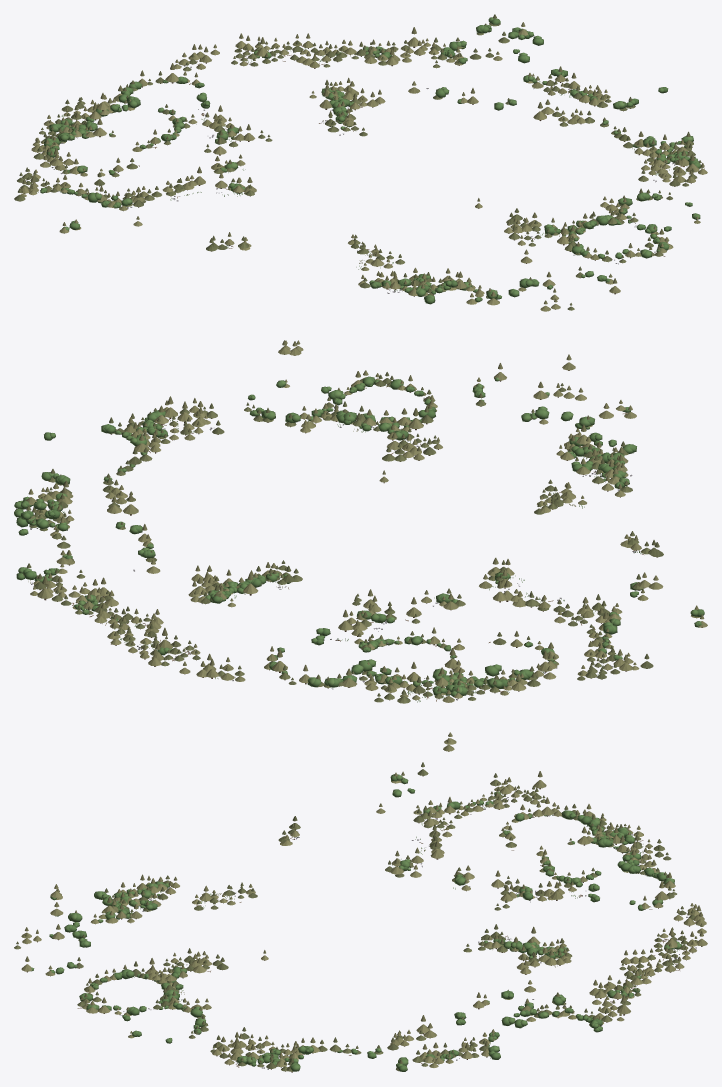
Rendered from Foliage_P3.fbx.
3 renders of one model, top to bottom at view 1: azimuth 30°, elevation 25°; view 2: azimuth 150°, elevation 25°; view 3: azimuth 270°, elevation 25°, orthographic. The views are drawn at different scales.
Size of the model in its own units: 50460 by 6459 by 51202.
